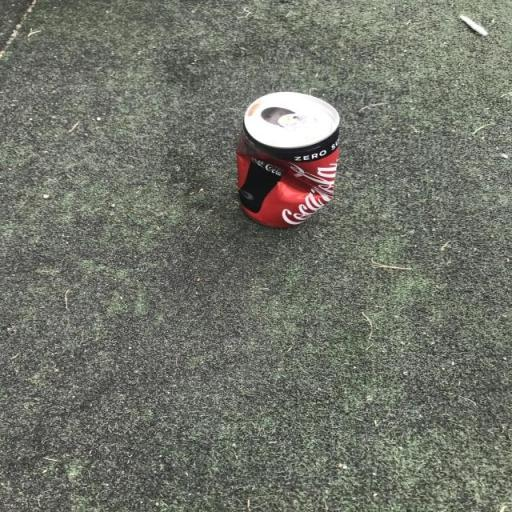metal: (204, 67, 388, 284)
